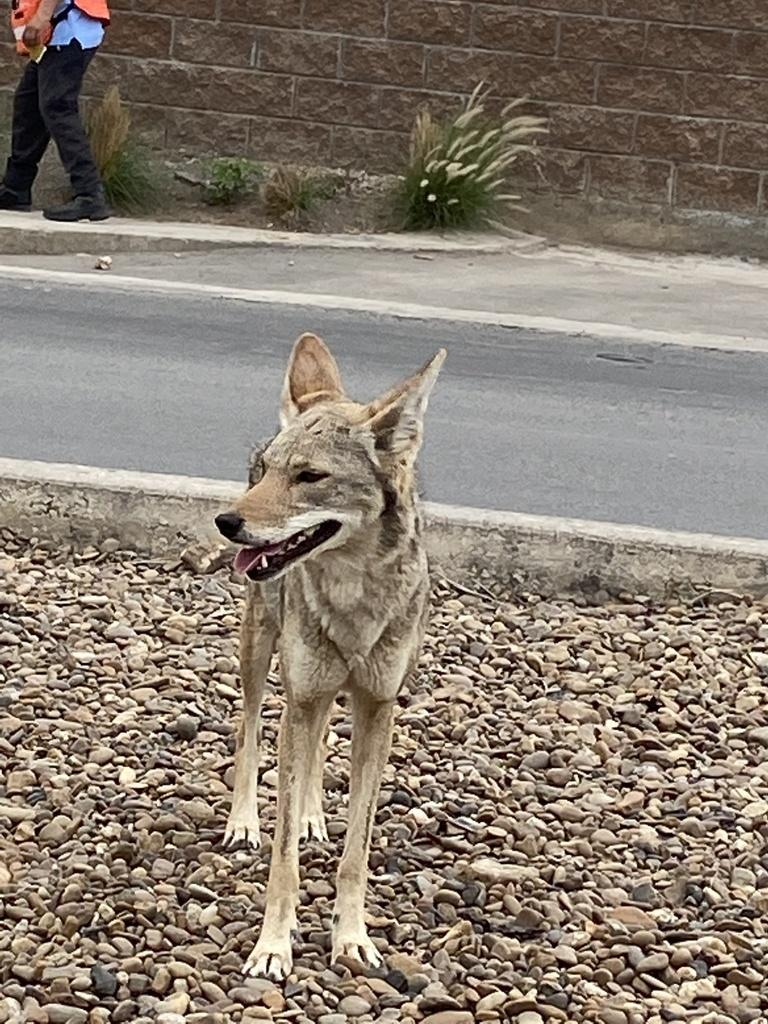Coyote: (214, 329, 453, 984)
